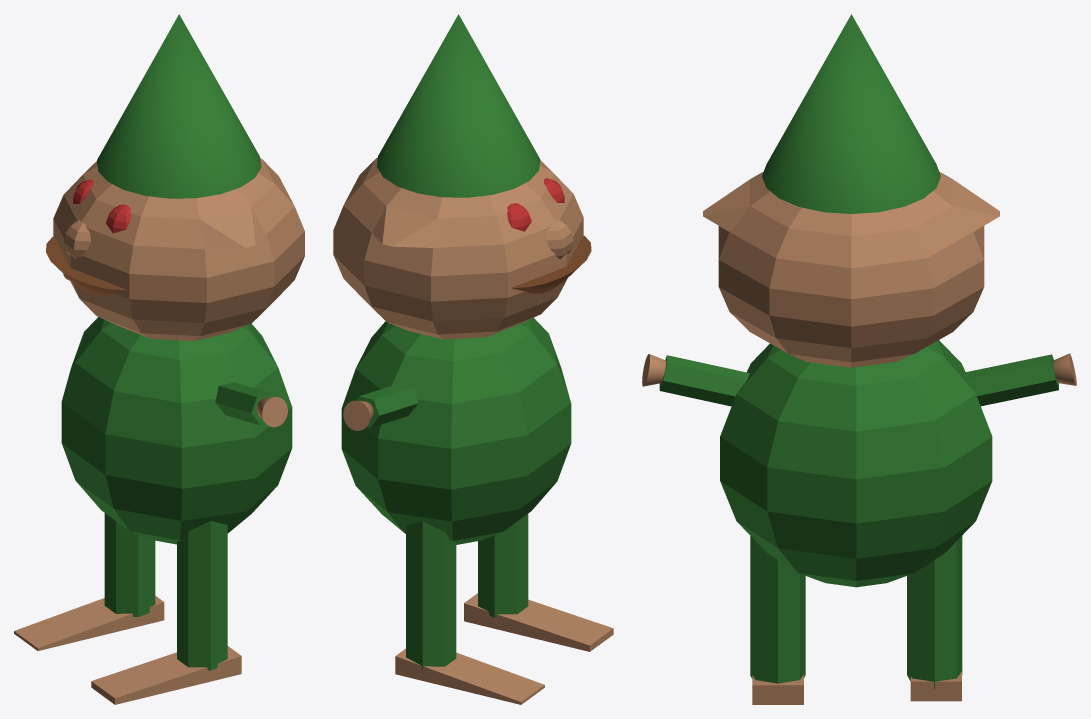
The model's file is Low Poly Elf 3.fbx.
3 views of the same model, side by side, from view 1: azimuth 30°, elevation 25°; view 2: azimuth 150°, elevation 25°; view 3: azimuth 270°, elevation 25° (orthographic). The views are drawn at different scales.
Visible parts, largest first — view 1: pSphere7, polySurface27, polySurface15, polySurface20, polySurface29, polySurface21, polySurface17, polySurface22, polySurface25, pSphere8, pCone7, polySurface23; view 2: pSphere7, polySurface27, polySurface15, polySurface29, polySurface20, polySurface21, polySurface17, polySurface16, polySurface25, pSphere8, pCone6, polySurface19; view 3: pSphere7, polySurface27, polySurface15, polySurface20, polySurface29, polySurface16, polySurface22, polySurface21, polySurface17.
Part boxes in pixels (x1,y1,x2,y2): pSphere7: (61, 317, 292, 544); polySurface27: (53, 158, 304, 340); polySurface15: (97, 14, 261, 198); polySurface20: (177, 521, 227, 670); polySurface29: (104, 513, 155, 616); polySurface21: (91, 646, 241, 704); polySurface17: (14, 596, 164, 650); polySurface22: (215, 382, 273, 425); polySurface25: (46, 236, 126, 295); pSphere8: (63, 220, 90, 260); pCone7: (256, 397, 287, 427); polySurface23: (106, 204, 130, 233); pSphere7: (341, 317, 571, 544); polySurface27: (333, 157, 583, 339); polySurface15: (376, 14, 540, 197); polySurface29: (406, 521, 456, 669); polySurface20: (478, 514, 528, 617); polySurface21: (464, 593, 613, 651); polySurface17: (395, 648, 544, 704); polySurface16: (356, 383, 418, 427); polySurface25: (511, 235, 591, 293); pSphere8: (546, 219, 573, 259); pCone6: (343, 400, 373, 430); polySurface19: (507, 203, 531, 231); pSphere7: (720, 340, 992, 587); polySurface27: (703, 171, 999, 367); polySurface15: (762, 14, 940, 213); polySurface20: (750, 536, 805, 683); polySurface29: (907, 536, 962, 689); polySurface16: (962, 354, 1058, 406); polySurface22: (659, 355, 749, 406); polySurface21: (752, 674, 803, 704); polySurface17: (910, 671, 961, 701).
Bounding box in the file's own units: 1.8 × 4.76 × 2.75.
